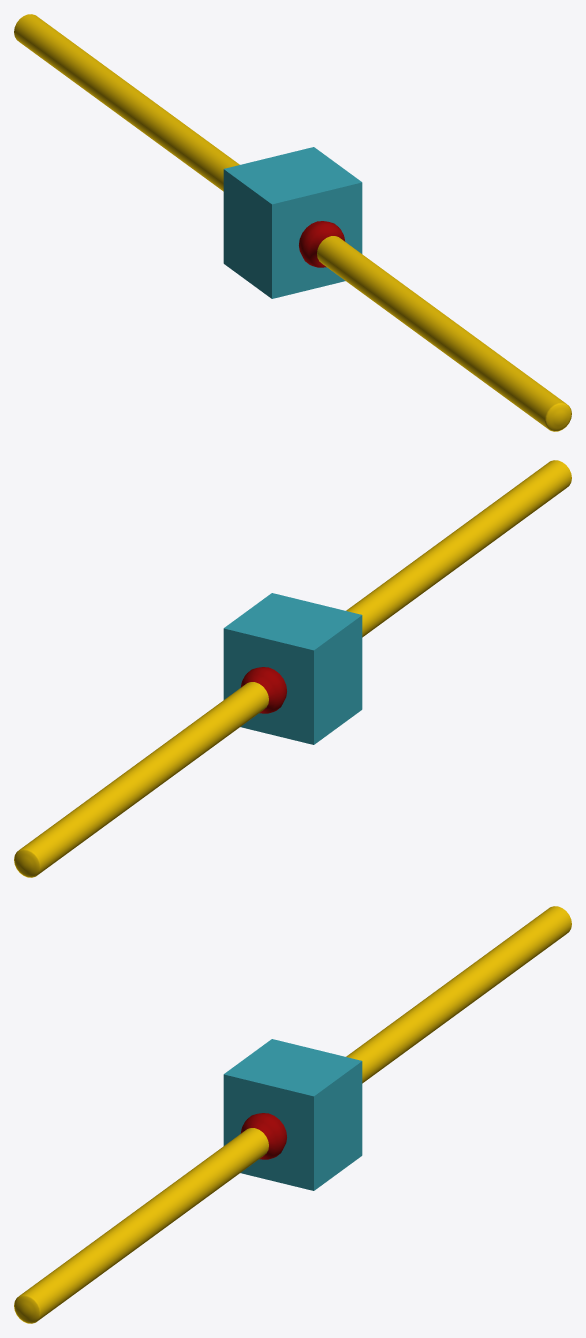
The model's file is obstacle01.fbx.
3 renders of one model, top to bottom at view 1: azimuth 30°, elevation 25°; view 2: azimuth 150°, elevation 25°; view 3: azimuth 330°, elevation 25°, orthographic.
Visible parts, largest first — view 1: obstacle01; view 2: obstacle01; view 3: obstacle01.
Boxes of the visible parts, x1,y1,x2,y2 form: obstacle01: [14, 14, 571, 431]; obstacle01: [14, 460, 571, 877]; obstacle01: [14, 906, 571, 1323].
Bounding box in the file's own units: 200 × 200 × 2056.
